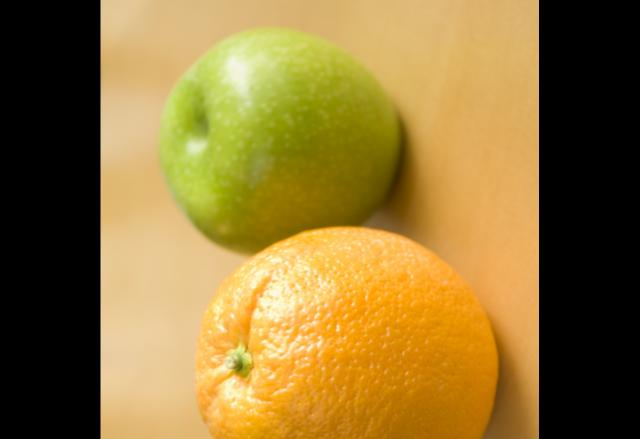Oranges: (194, 228, 497, 439)
